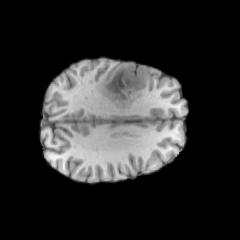glioma: (96, 61, 148, 107)
